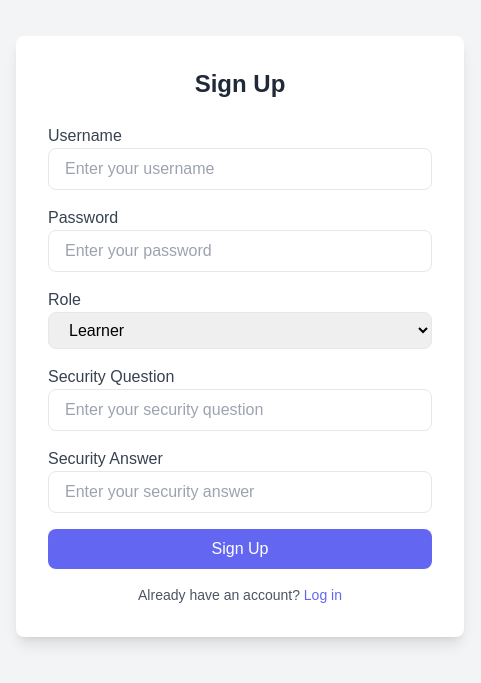
Test: SignupPage › displays a success message on successful signup
Type "testuser" into the field with placeholder "Enter your username" at [240, 168], box [48,148,432,190]
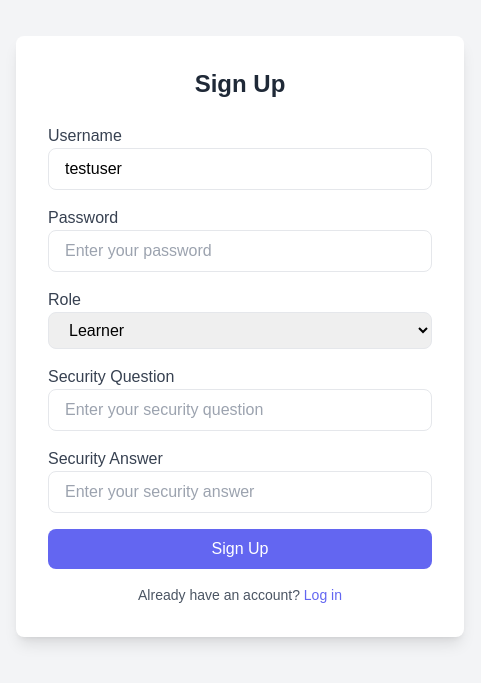
Type "password123" into the password field with placeholder "Enter your password" at [240, 250], box [48,230,432,272]
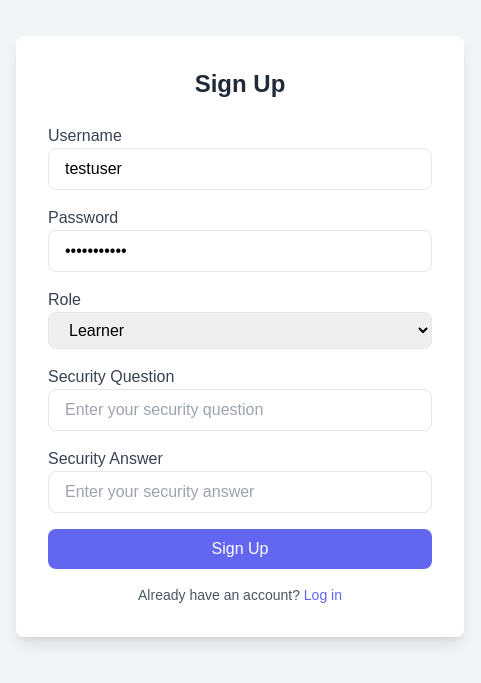
Type "What is your pet's name?" into the field with placeholder "Enter your security question" at [240, 410], box [48,388,432,430]
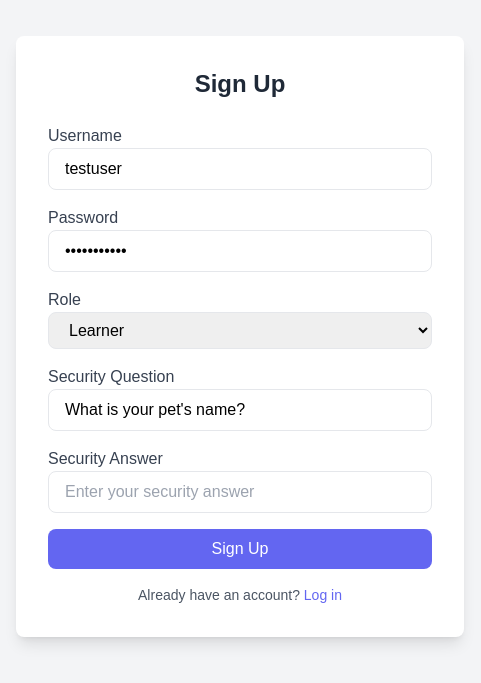
Type "Fluffy" into the field with placeholder "Enter your security answer" at [240, 492], box [48,470,432,512]
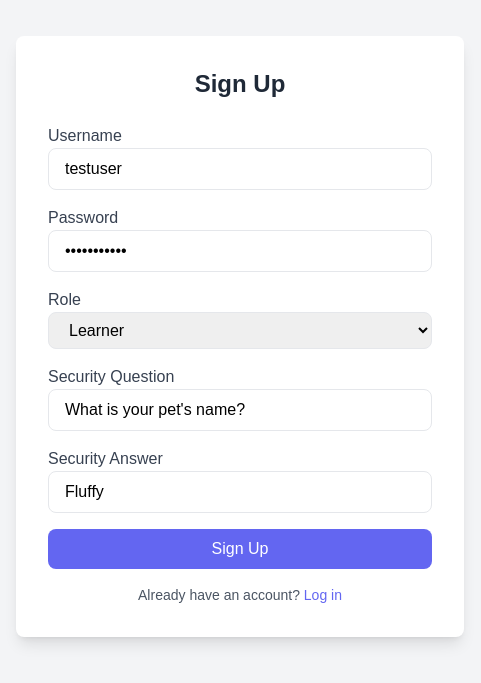
Click the button "Sign Up" at [240, 548], box [48,528,432,568]
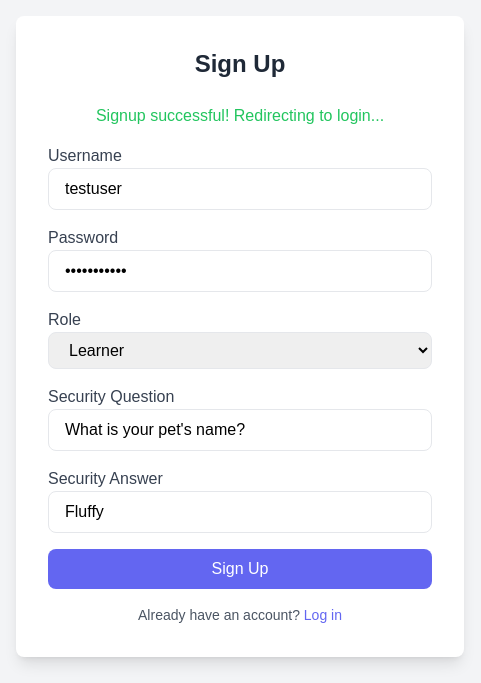
expect the text "Signup successful! Redirecting to login..." is shown: met, box [96,106,384,124]
